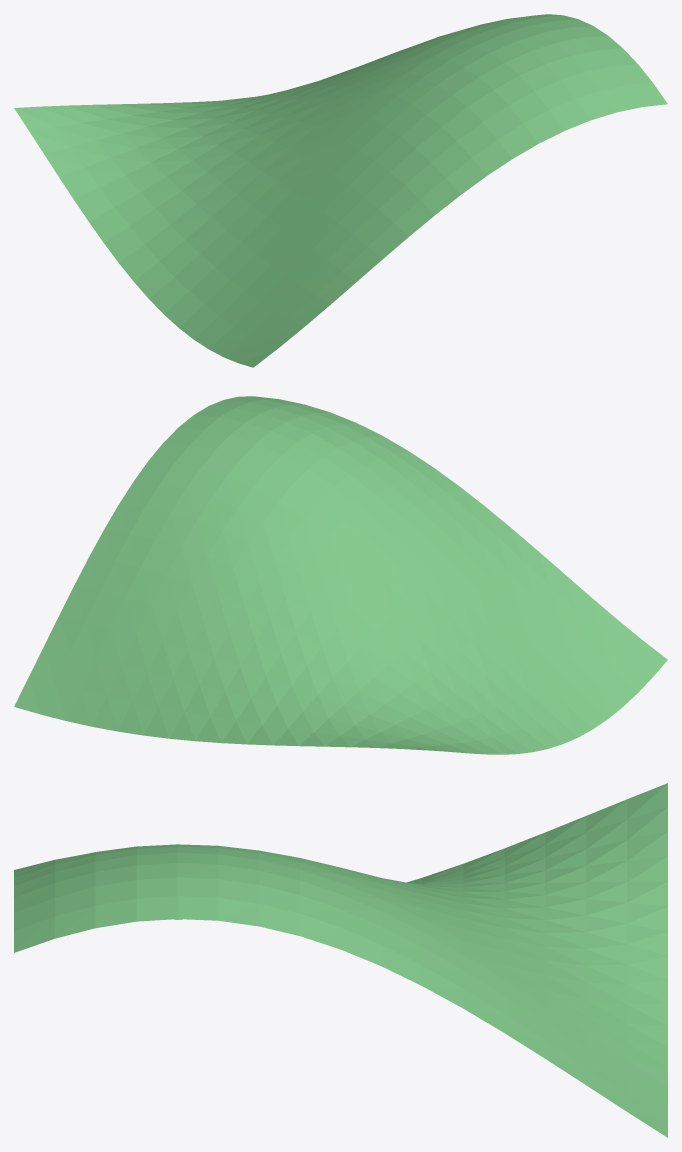
The picture shows the model from 3 angles, top to bottom: view 1: azimuth 30°, elevation 25°; view 2: azimuth 150°, elevation 25°; view 3: azimuth 270°, elevation 25°; orthographic projection. The views are drawn at different scales.
Size of the model in its own units: 10 by 4.79 by 10.
